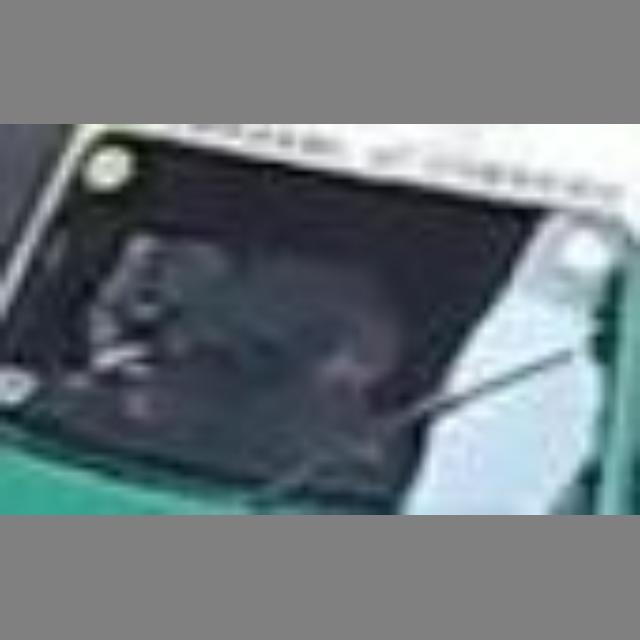tidak-pakai: (90, 199, 407, 403)
